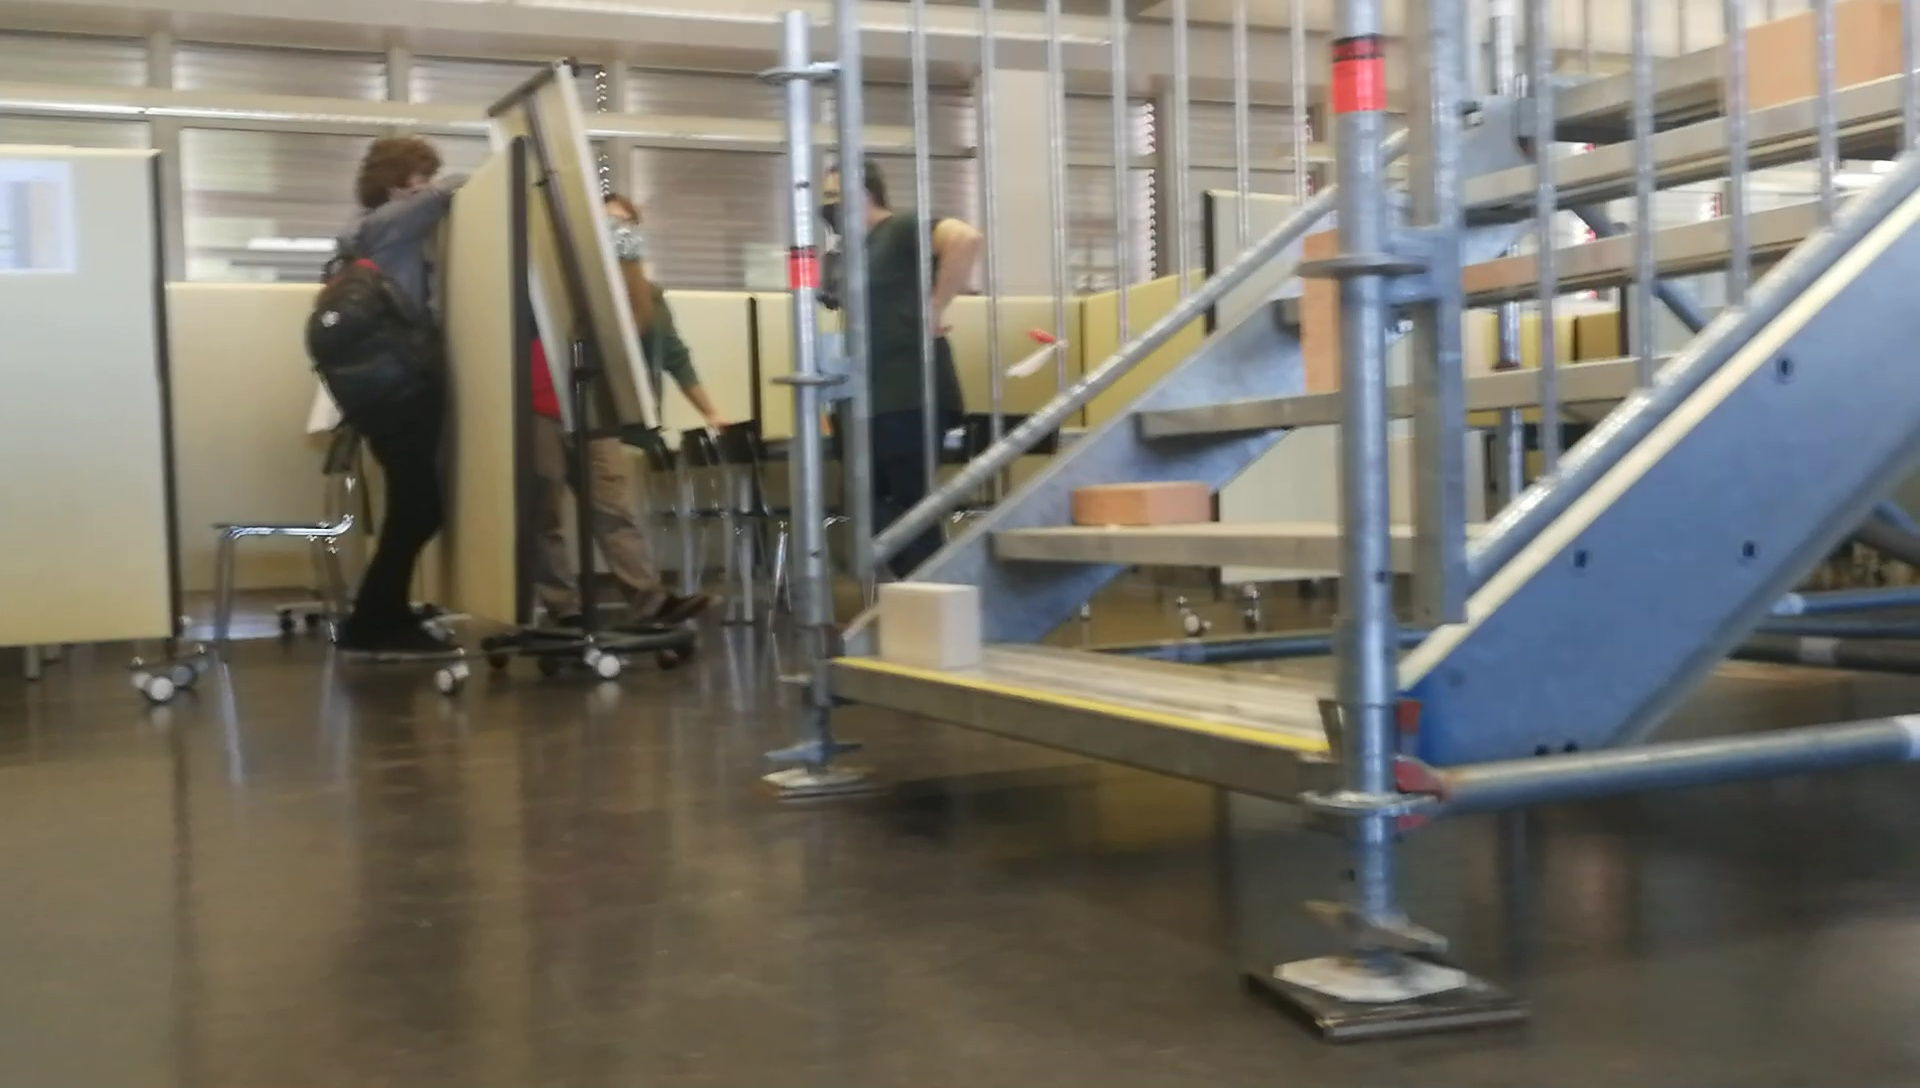brick: (881, 583, 978, 670), (1072, 480, 1203, 525)
edge: (829, 659, 1300, 804)
stairs: (756, 3, 1387, 1046)
